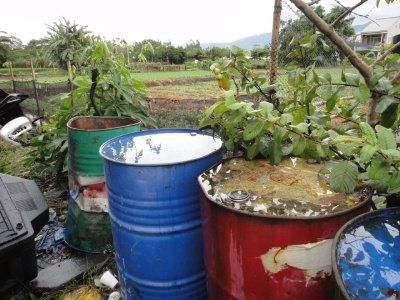bucket: (197, 152, 374, 300), (100, 127, 223, 300), (65, 113, 141, 255)
